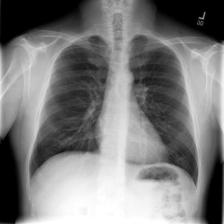normal: (25, 29, 202, 191)
